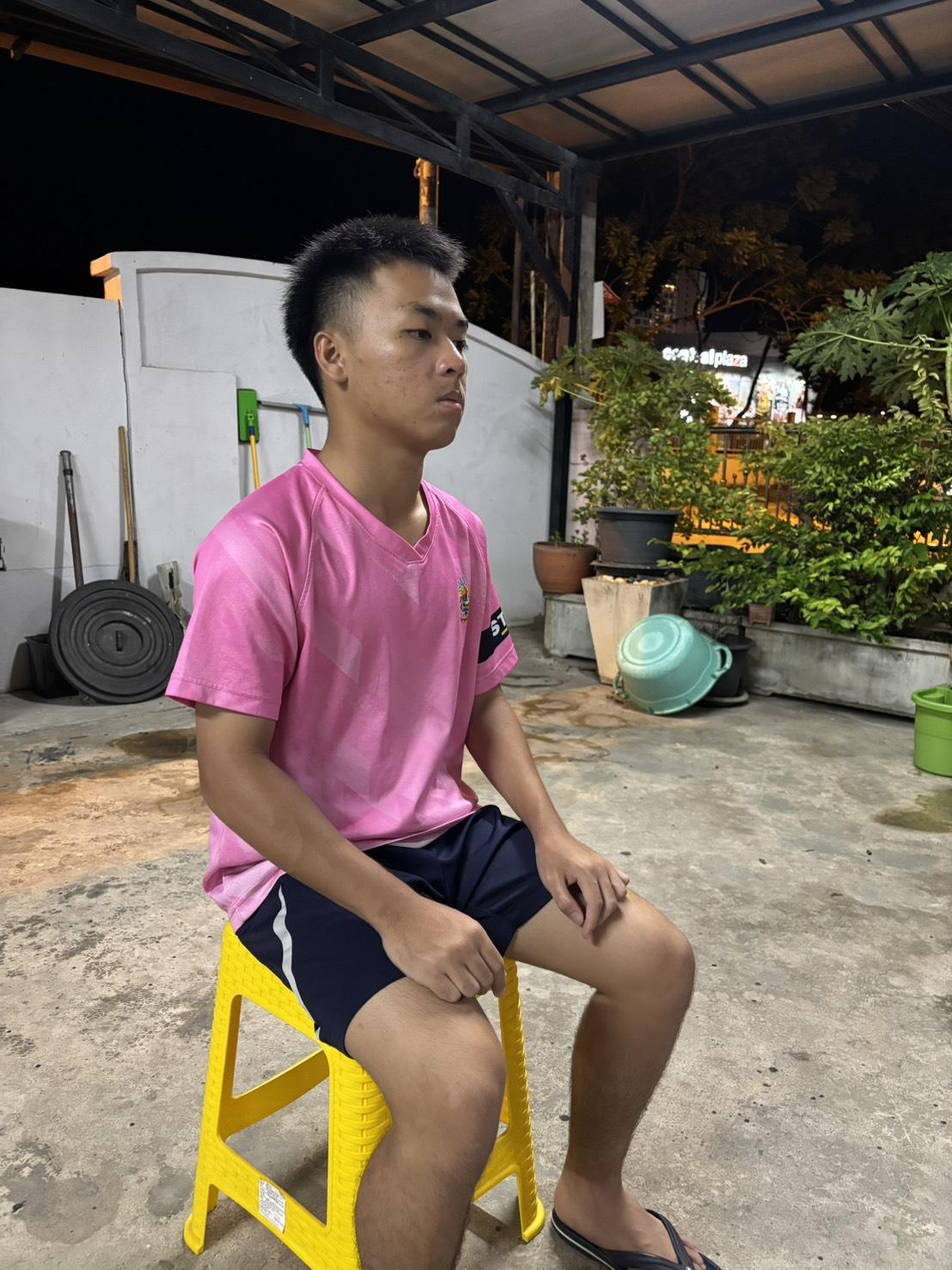GoodPosture: (168, 217, 719, 1269)
